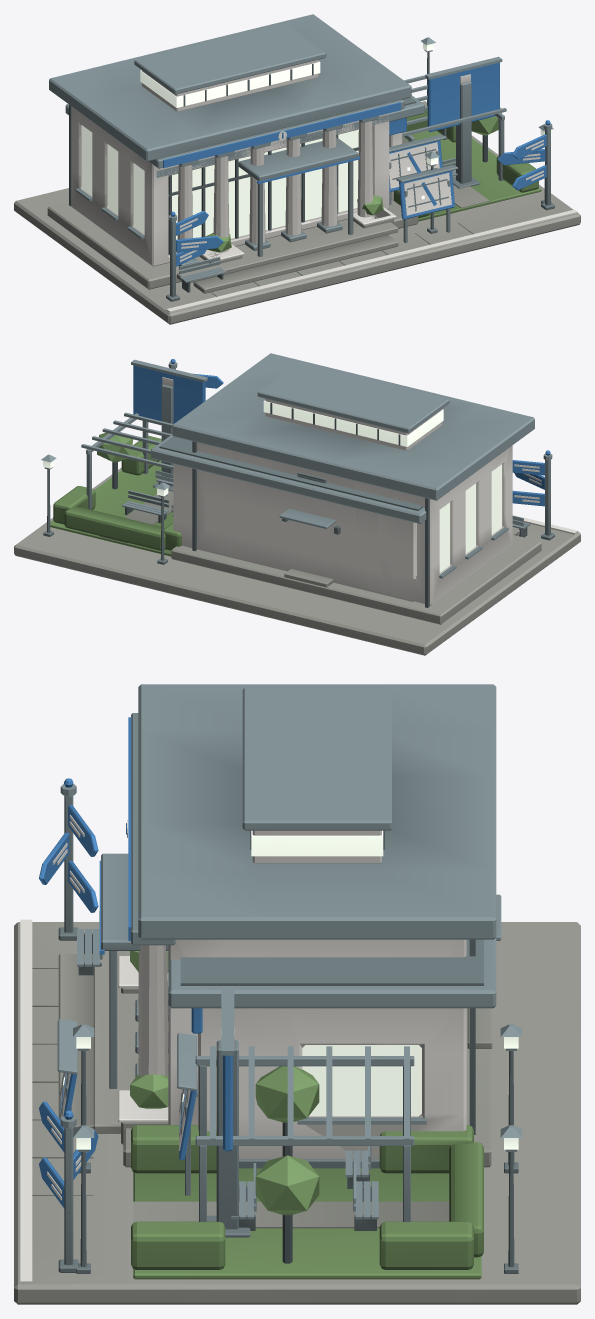
The model's file is info-centre.glb.
3 views of the same model, one above another, from view 1: azimuth 30°, elevation 25°; view 2: azimuth 150°, elevation 25°; view 3: azimuth 270°, elevation 25° (orthographic). The views are drawn at different scales.
Visible parts, largest first — view 1: Info3, Info1, Info2; view 2: Info3, Info2, Info1; view 3: Info3, Info1, Info2.
Part boxes in pixels (x1,y1,x2,y2): Info3: (47, 14, 553, 293); Info1: (14, 101, 580, 324); Info2: (65, 56, 502, 292); Info3: (41, 353, 541, 624); Info2: (131, 359, 544, 601); Info1: (14, 359, 580, 655); Info3: (39, 684, 521, 1279); Info1: (14, 778, 580, 1304); Info2: (41, 853, 496, 1237).
Bounding box in the file's own units: 17.4 × 6.98 × 11.4.
